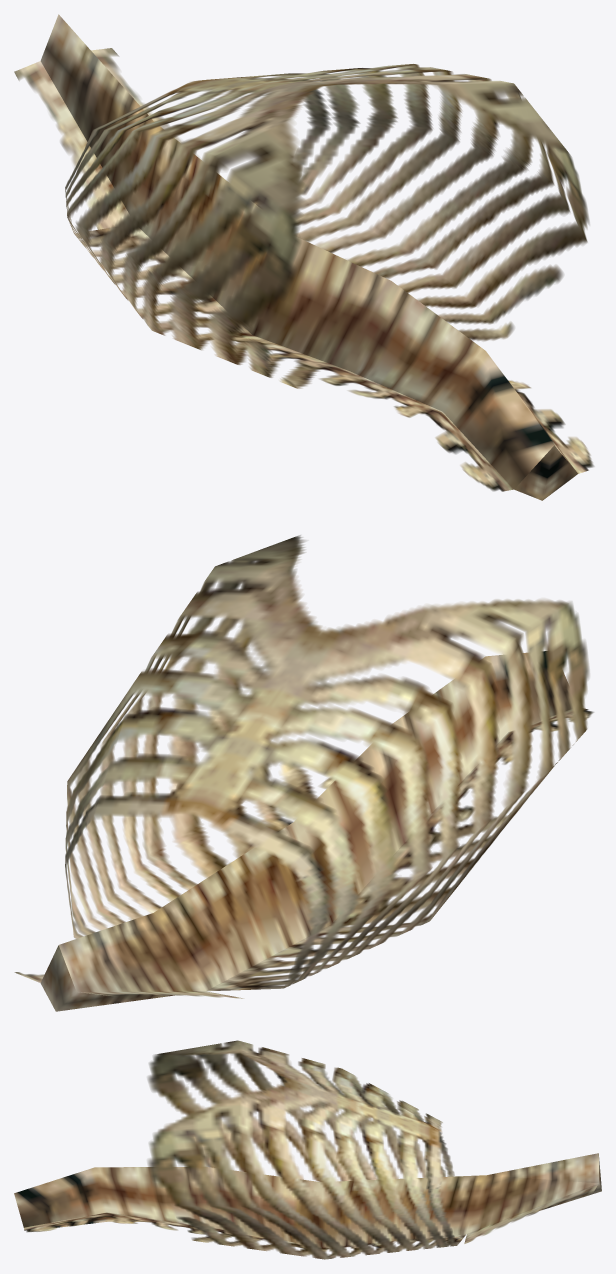
3 views of the same model, one above another, from view 1: azimuth 30°, elevation 25°; view 2: azimuth 150°, elevation 25°; view 3: azimuth 270°, elevation 25° (orthographic). The views are drawn at different scales.
Parts seen in each view (by area): view 1: d_sk_part1-col; view 2: d_sk_part1-col; view 3: d_sk_part1-col.
Boxes of the visible parts, box(x1,y1,x2,y2) form: d_sk_part1-col: box(14, 14, 593, 500); d_sk_part1-col: box(14, 535, 593, 1011); d_sk_part1-col: box(14, 1040, 601, 1259).
Size of the model in its own units: 0.3042 by 0.2138 by 0.6765.
Materials: 1 (1 with a texture image).
